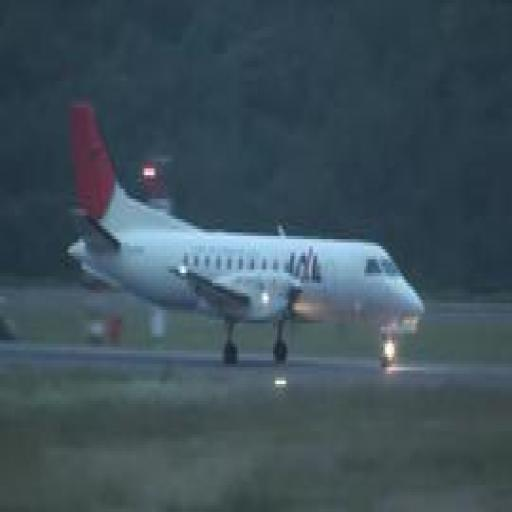aircraft: (66, 101, 425, 371)
